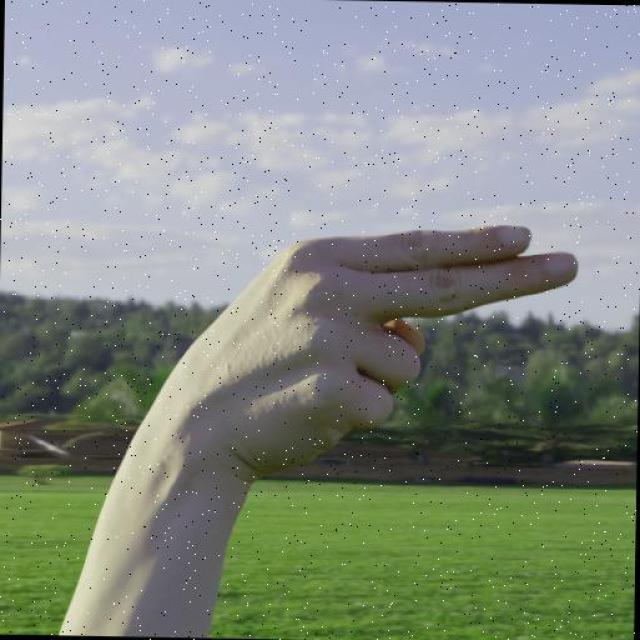H: (178, 210, 589, 490)
